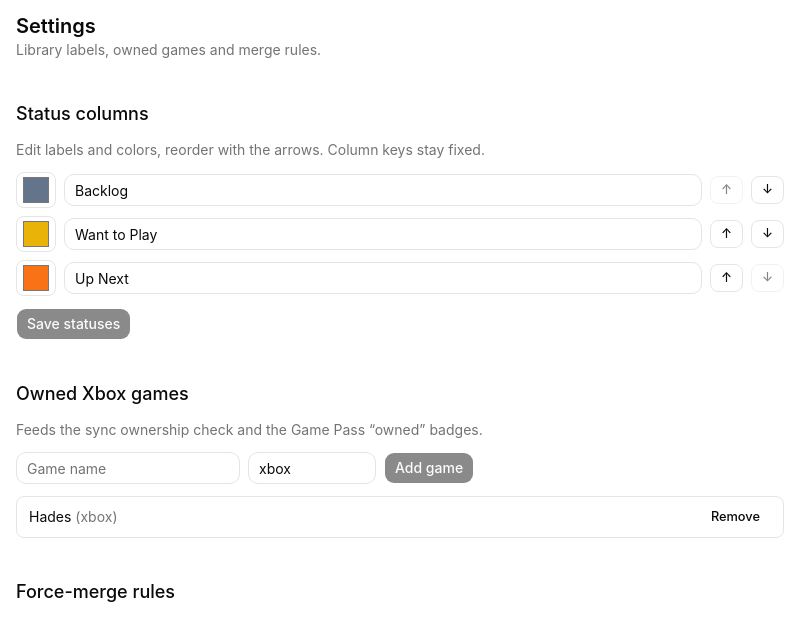
it: SettingsPage › removes an owned game
Click the button with aria-label "Remove Hades" at [735, 517], box [700,503,771,531]
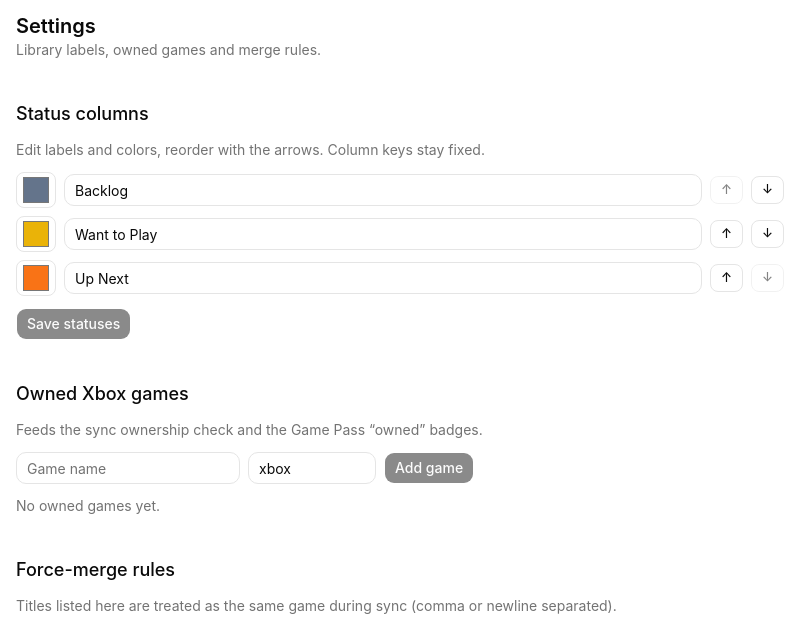
Now the text "Hades" is gone
